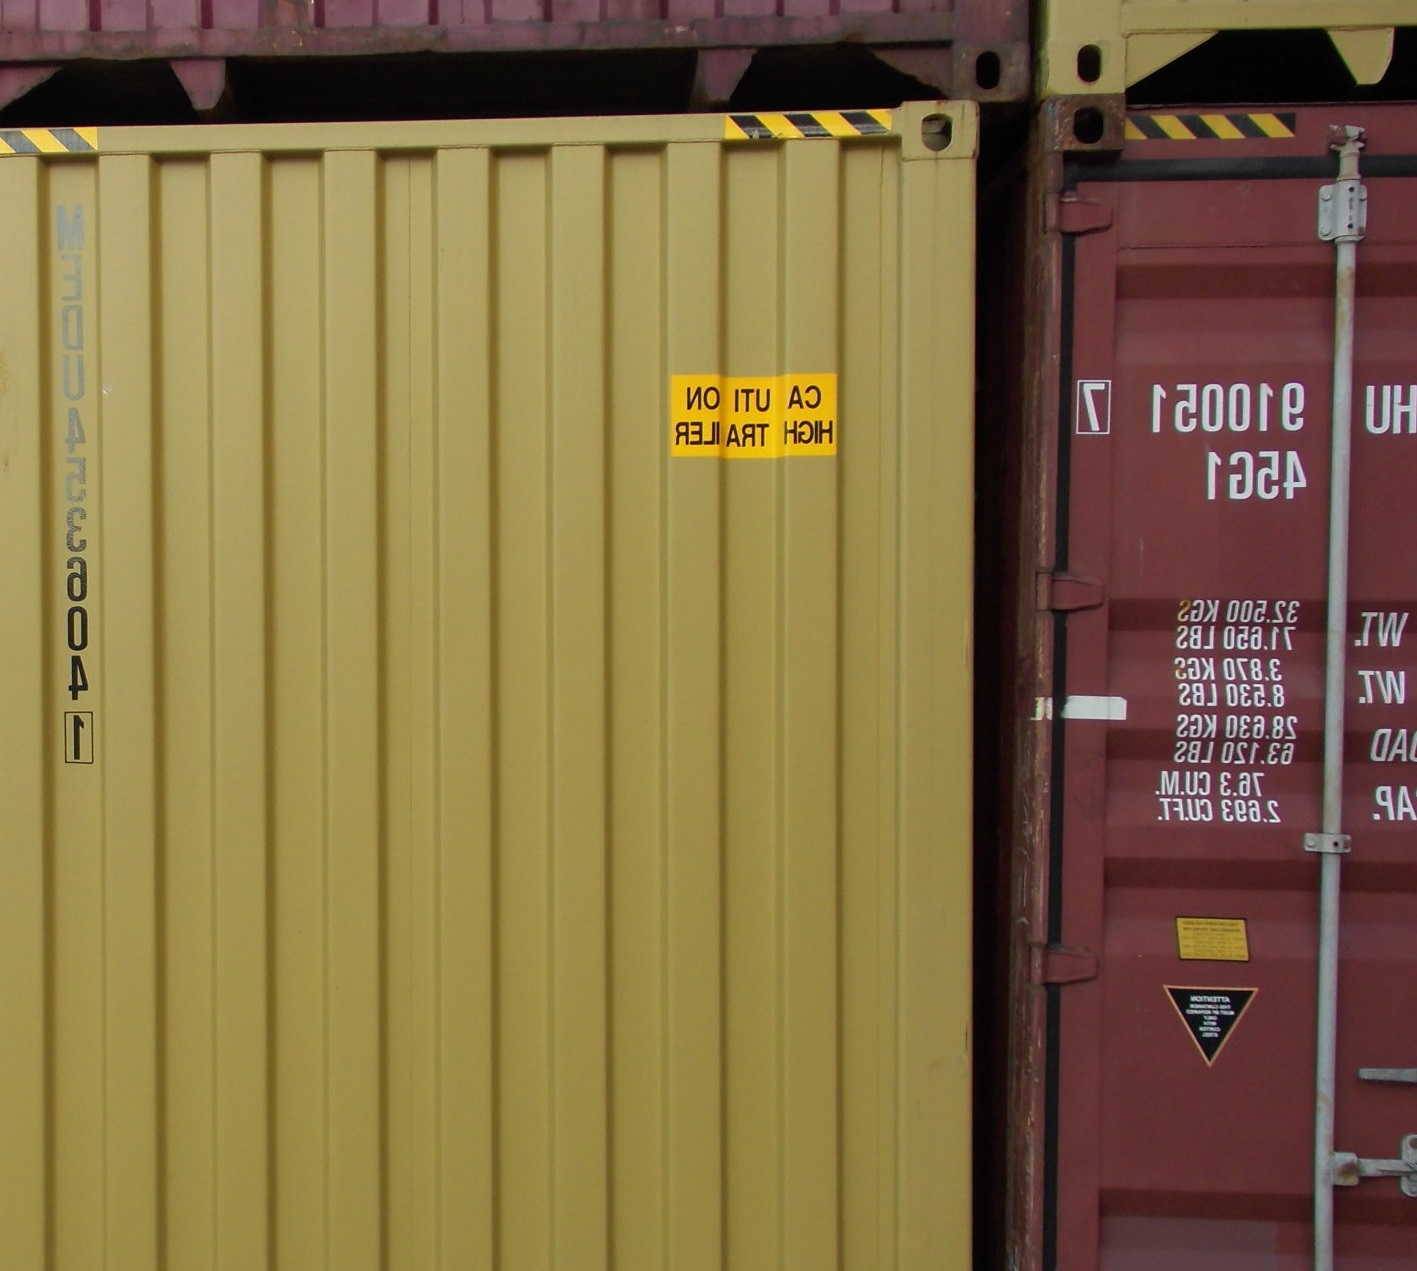container_door: (1056, 92, 1415, 1271)
container_no_door: (13, 121, 974, 1270)
